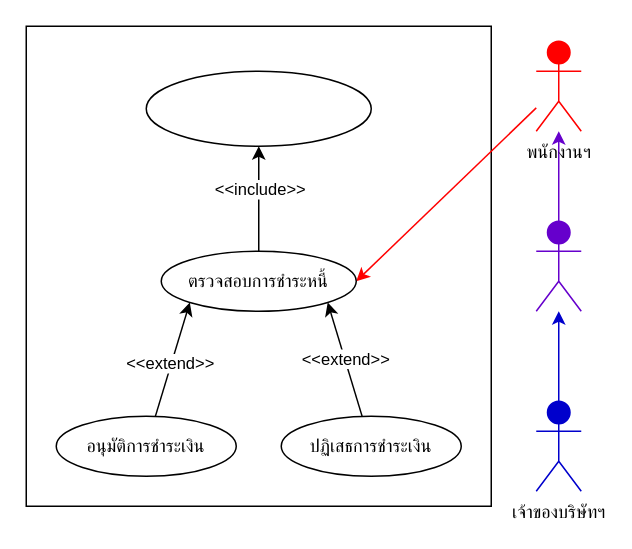
Some shapes in this 632 by 549 pixel diagram are drawn without their labels. The shapes that lost their labels are listed below. From the top down, each one's centre as x and y in pixels, then its label:
the point at 258,108: เรียกดูหลักฐานการโอนเงิน
the point at 558,265: ผู้จัดการฯ
